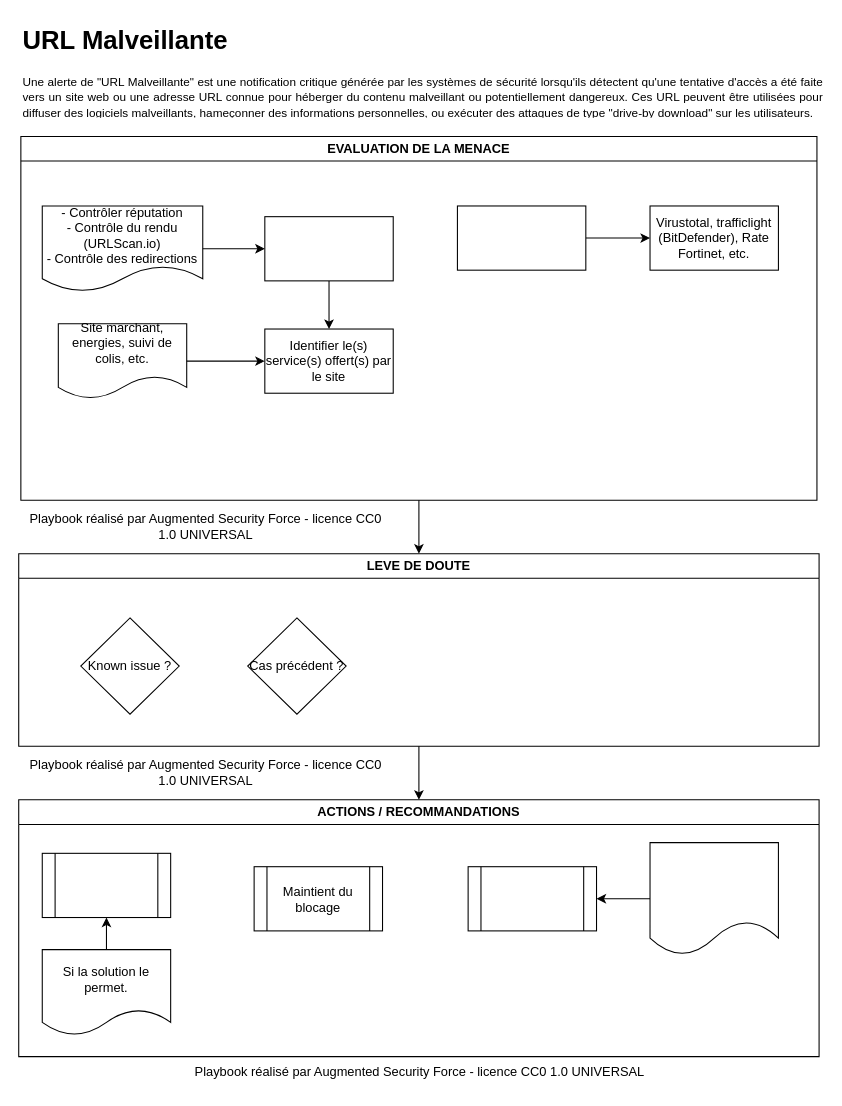
Some shapes in this 842 by 1106 pixel diagram are drawn without their labels. Each missing label, with the centre of its shape:
"Ajout exclusion" goes at pixel 532 898.
"Demander le reclassement du domaine / URL" goes at pixel 106 885.
"En allow ou block list suivant les résultats et retours" goes at pixel 713 898.
"Identifier le motif de l'alerte" goes at pixel 521 237.
"Récuperer l'URL" goes at pixel 328 248.
